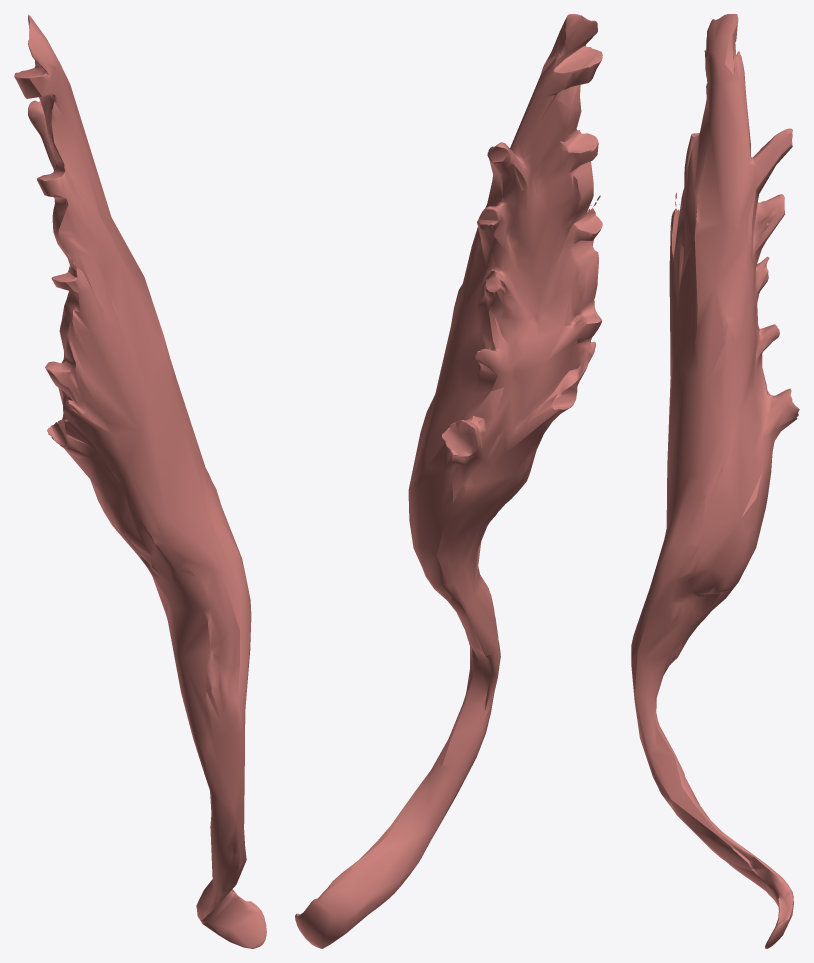
The model's file is fma22343_fj1431m.glb.
3 views of the same model, side by side, from view 1: azimuth 30°, elevation 25°; view 2: azimuth 150°, elevation 25°; view 3: azimuth 270°, elevation 25° (orthographic). The views are drawn at different scales.
Visible parts, largest first — view 1: FMA22343_FJ1431M; view 2: FMA22343_FJ1431M; view 3: FMA22343_FJ1431M.
Boxes of the visible parts, left/top/right/bottom form: FMA22343_FJ1431M: left=14, top=14, right=266, bottom=948; FMA22343_FJ1431M: left=295, top=14, right=602, bottom=948; FMA22343_FJ1431M: left=631, top=14, right=799, bottom=948.
Bounding box in the file's own units: 0.1063 × 0.3635 × 0.0664.
